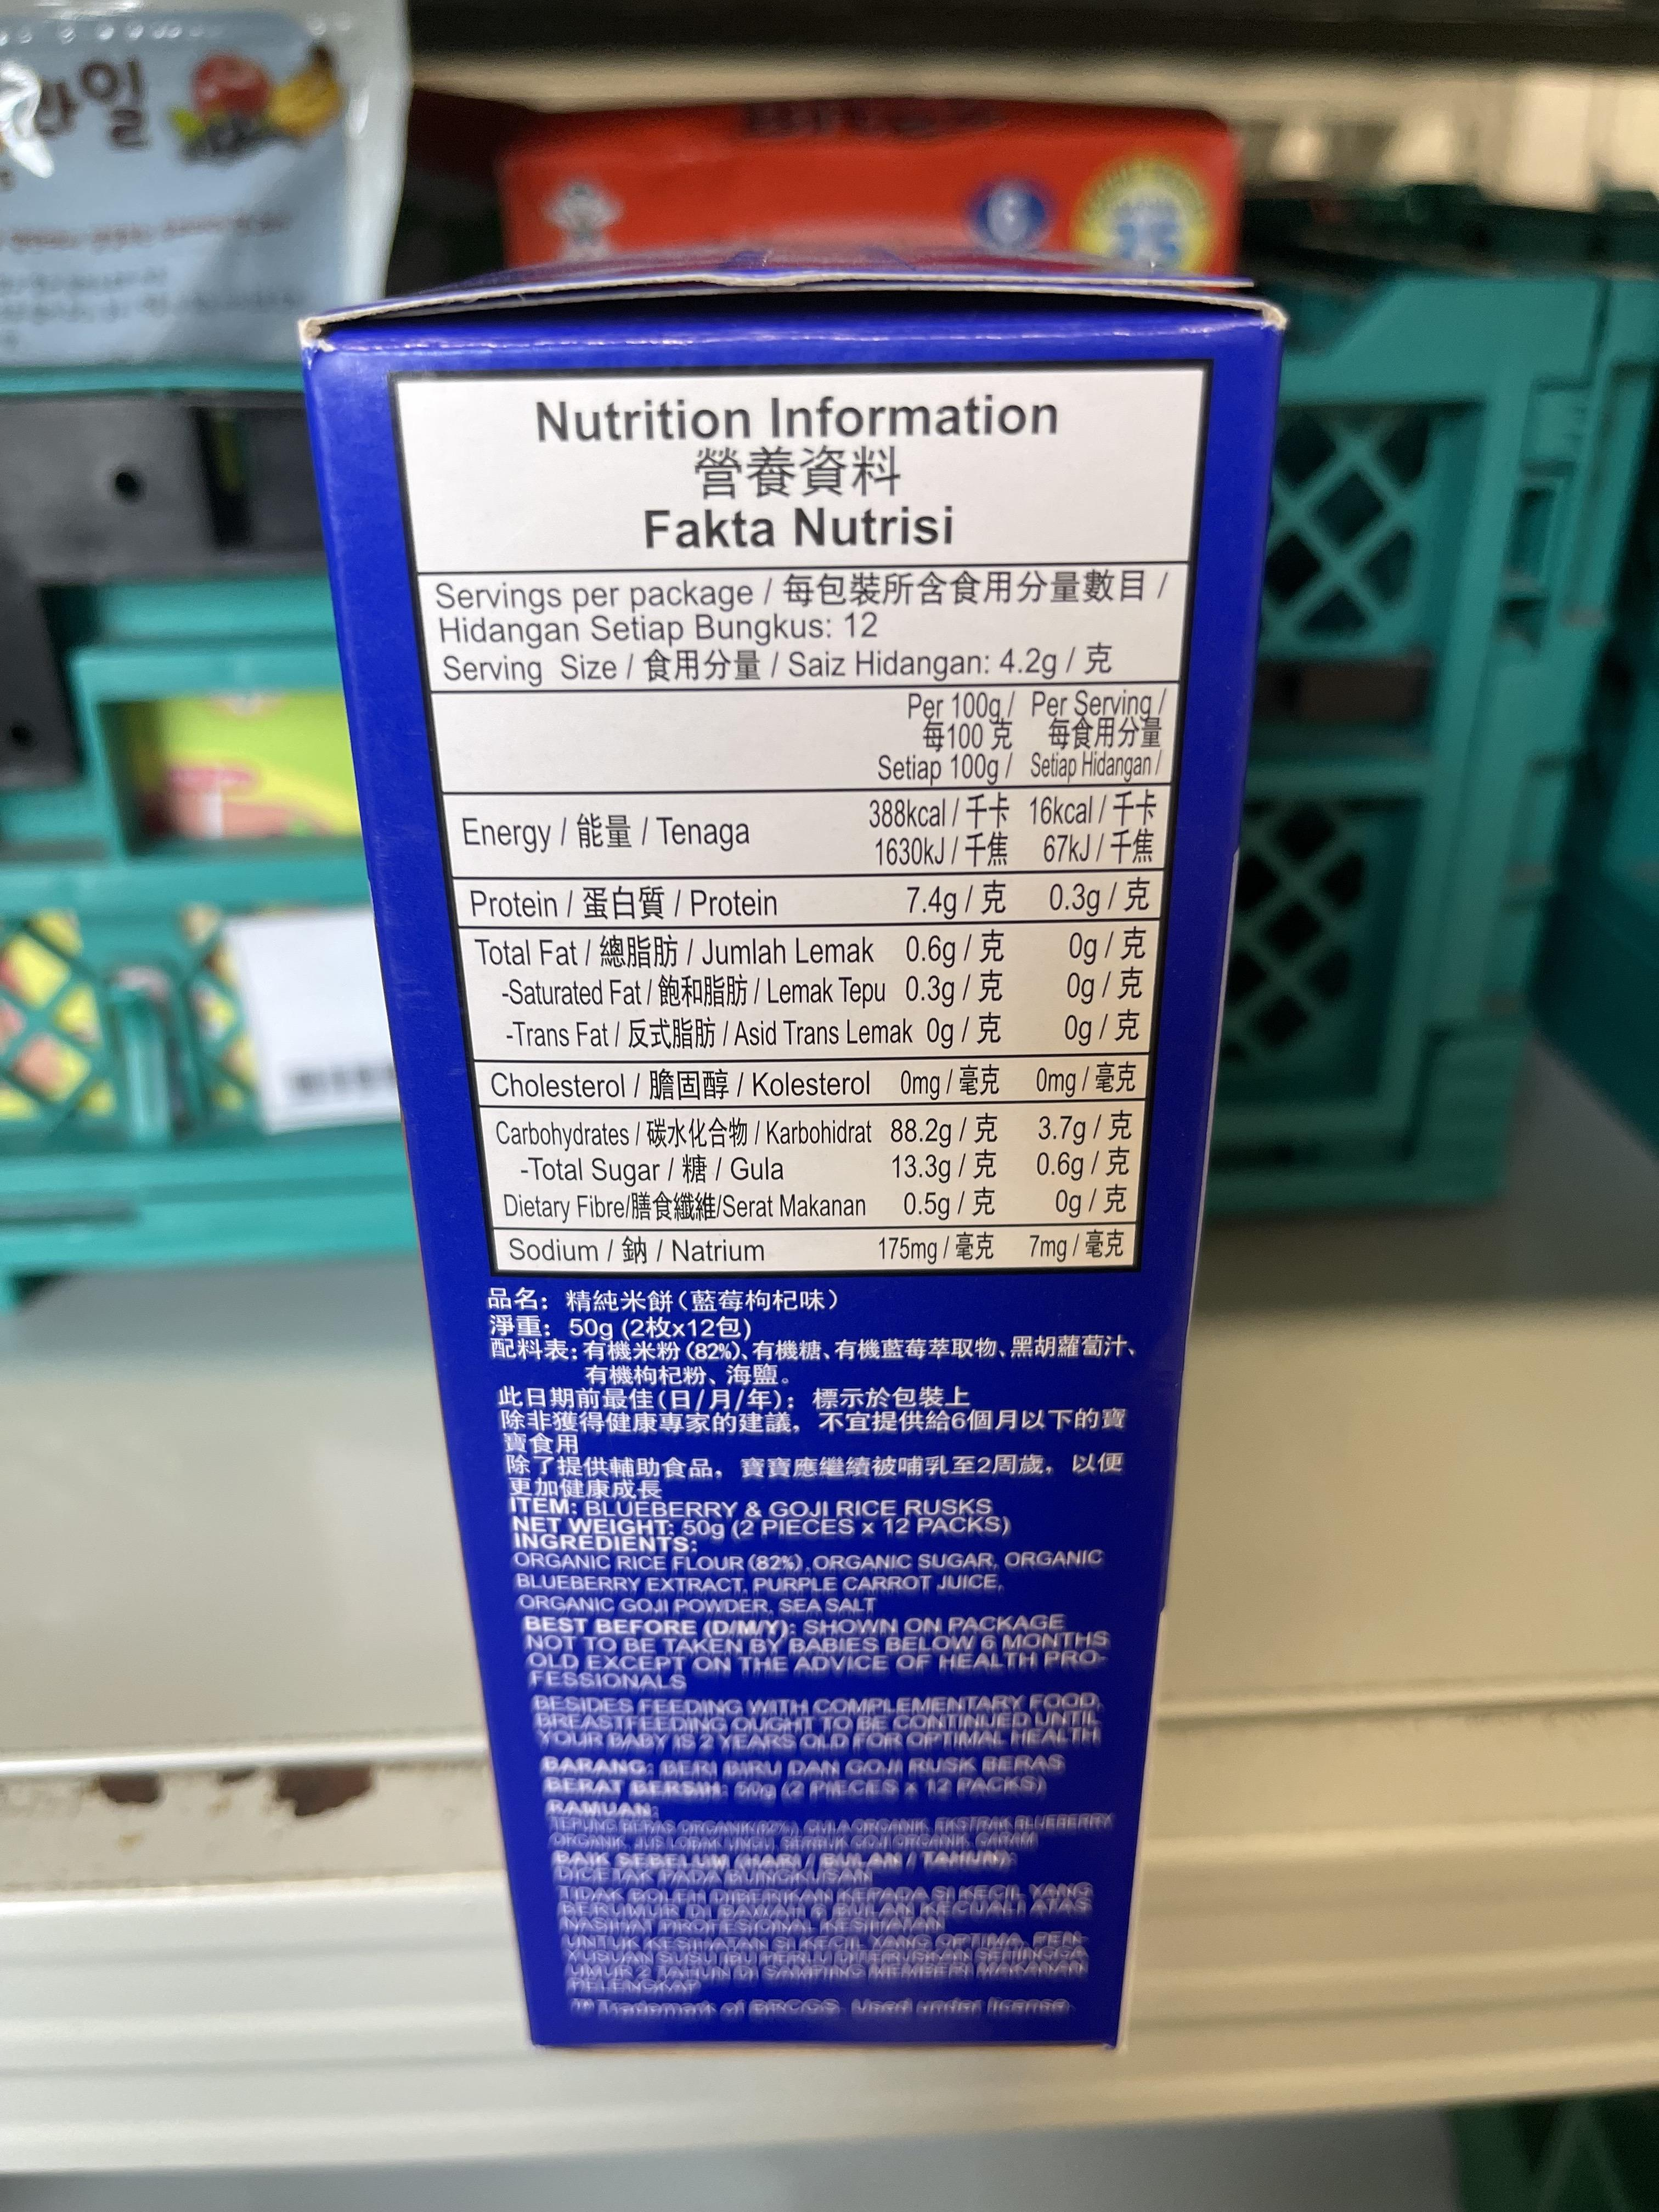object_name: (450, 296, 1208, 2034)
